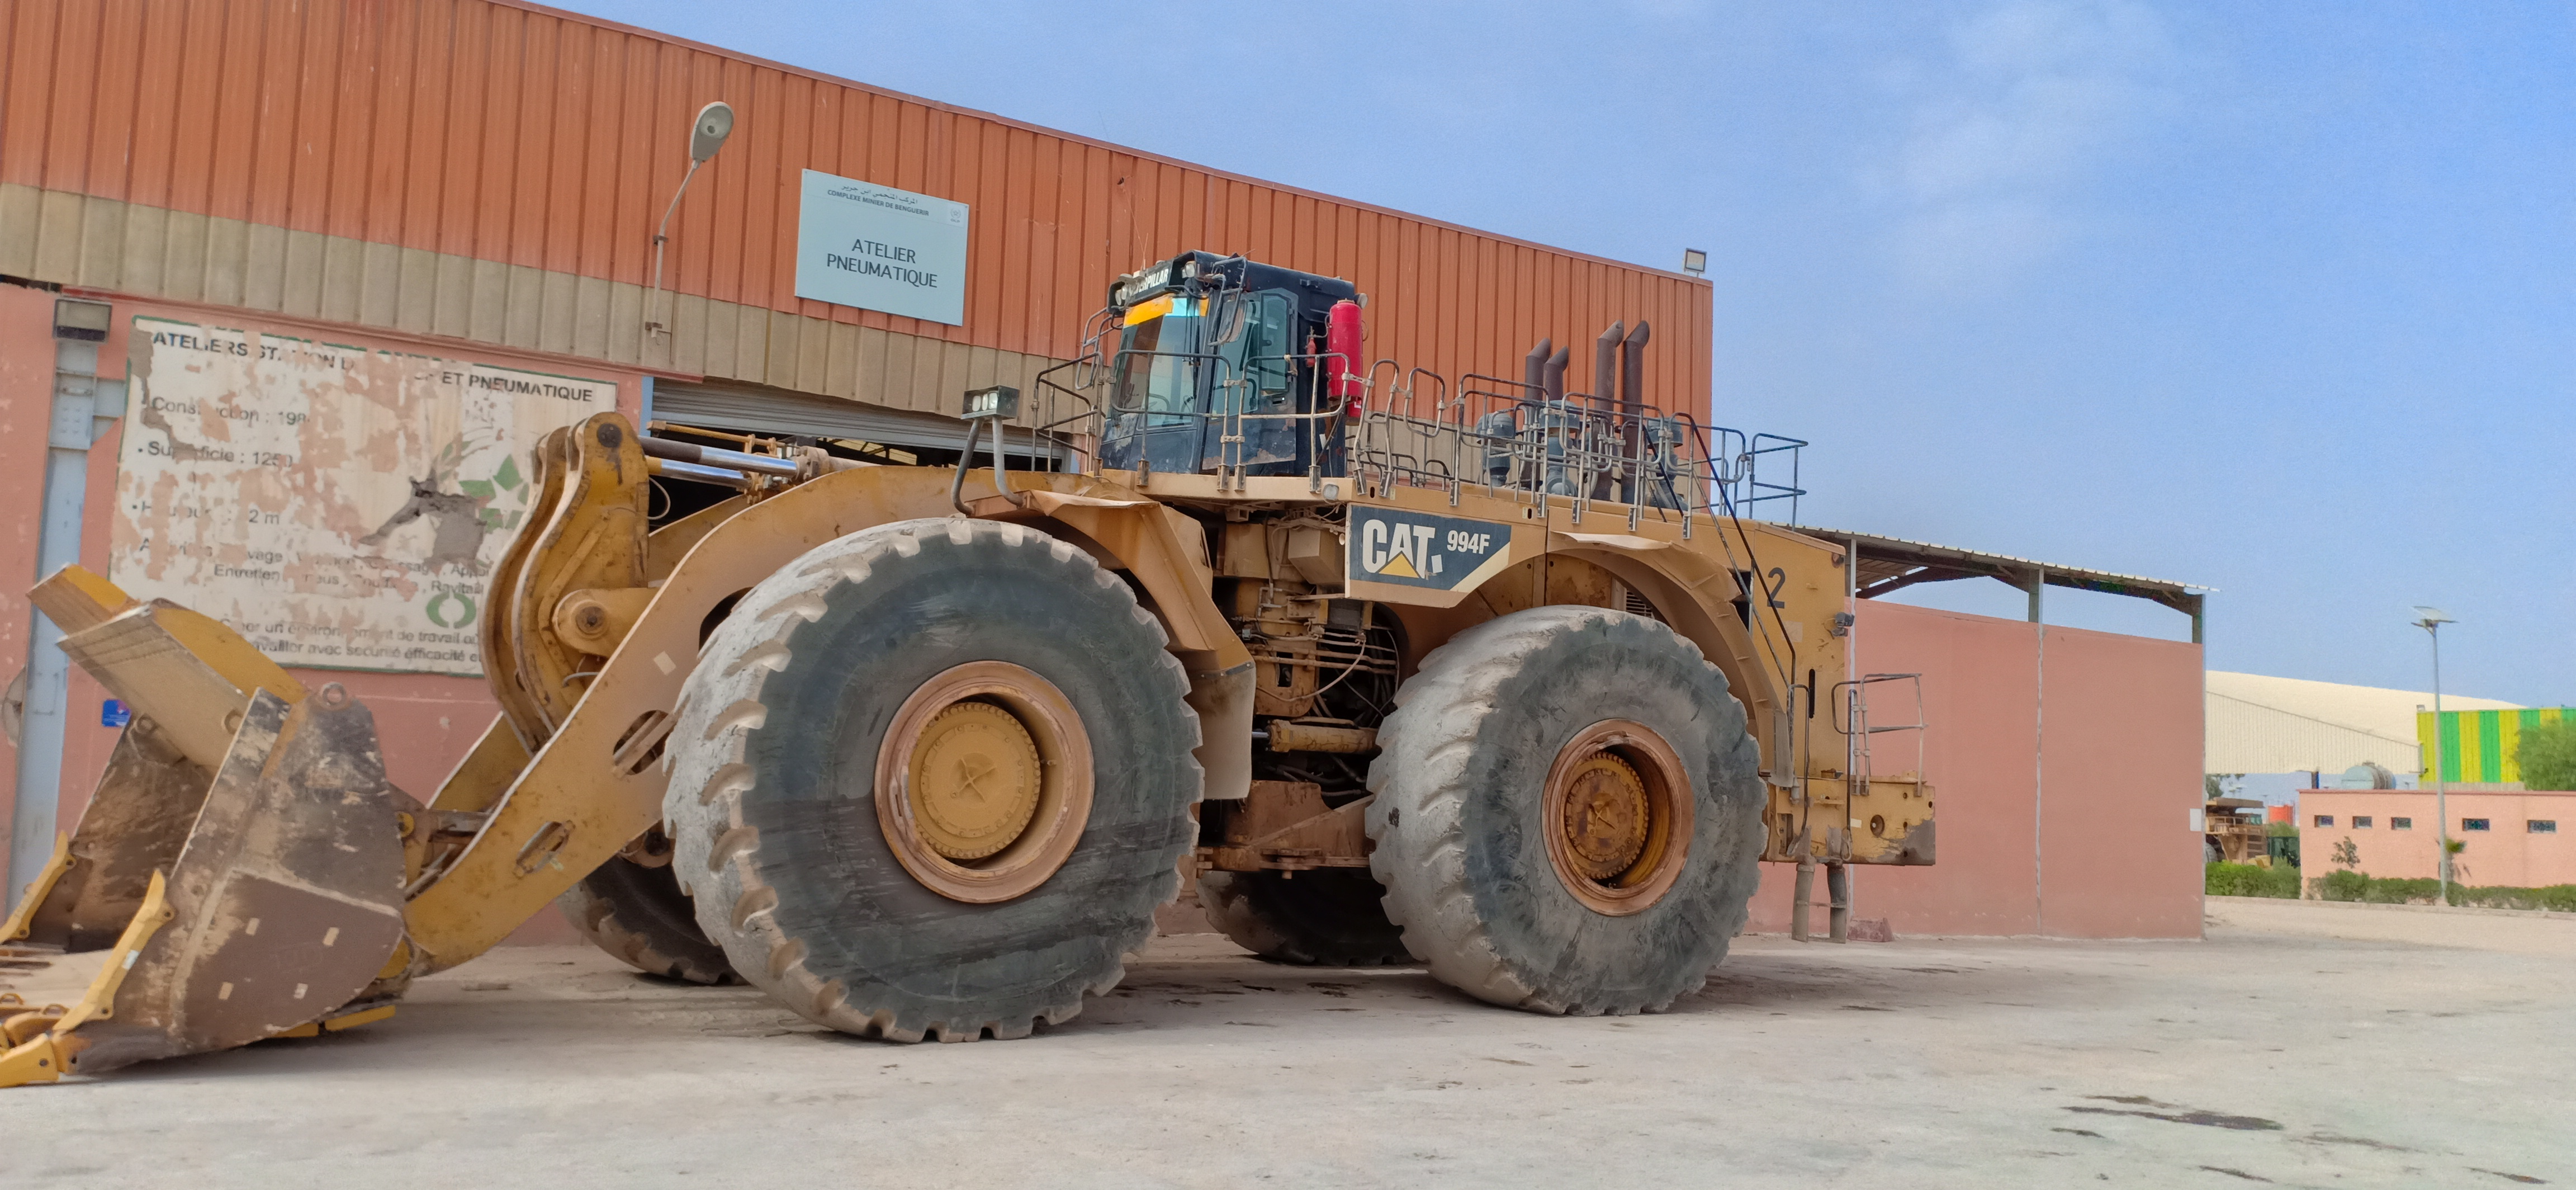chargeuse: (0, 250, 2009, 1108)
